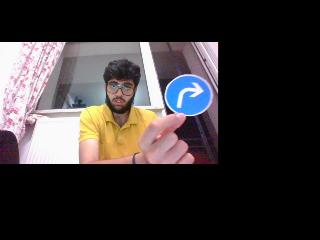right: (166, 74, 210, 114)
